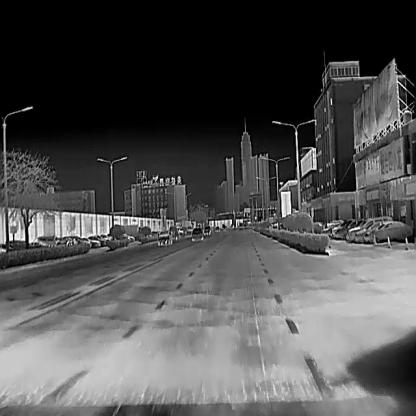car: (346, 214, 392, 239), (364, 219, 411, 242), (354, 221, 387, 242), (332, 218, 352, 238), (346, 217, 364, 237), (157, 228, 172, 245), (88, 234, 106, 245), (82, 236, 99, 247), (95, 233, 110, 245), (191, 226, 203, 240), (203, 225, 210, 234), (215, 225, 219, 231)
